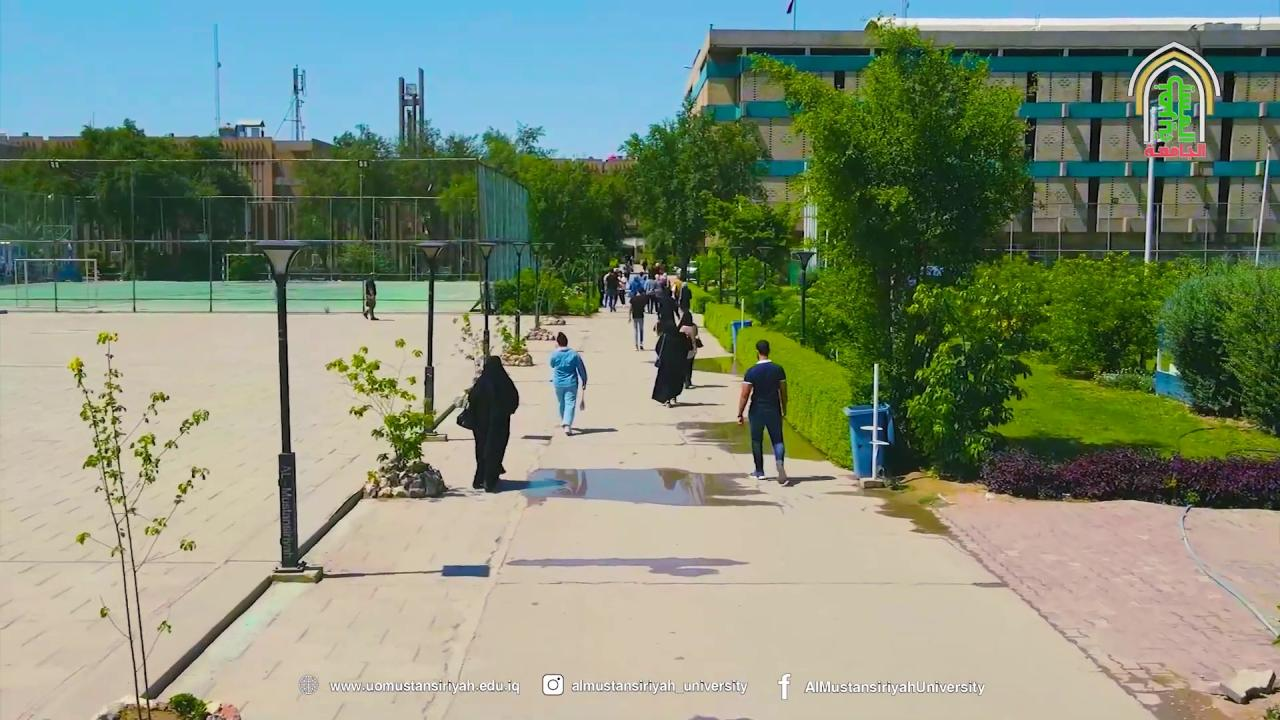person: (736, 339, 790, 485), (463, 355, 519, 492), (651, 306, 696, 407), (549, 331, 587, 435), (363, 275, 379, 320)
tree: (742, 11, 1038, 384), (65, 330, 211, 718), (290, 118, 556, 279), (1, 117, 256, 280), (890, 252, 1053, 480), (615, 87, 767, 285), (480, 137, 618, 315), (1154, 257, 1279, 431), (325, 336, 465, 489), (1041, 250, 1204, 380), (291, 123, 395, 279), (697, 190, 798, 310), (1217, 263, 1279, 436), (484, 265, 580, 317), (436, 170, 479, 278)
